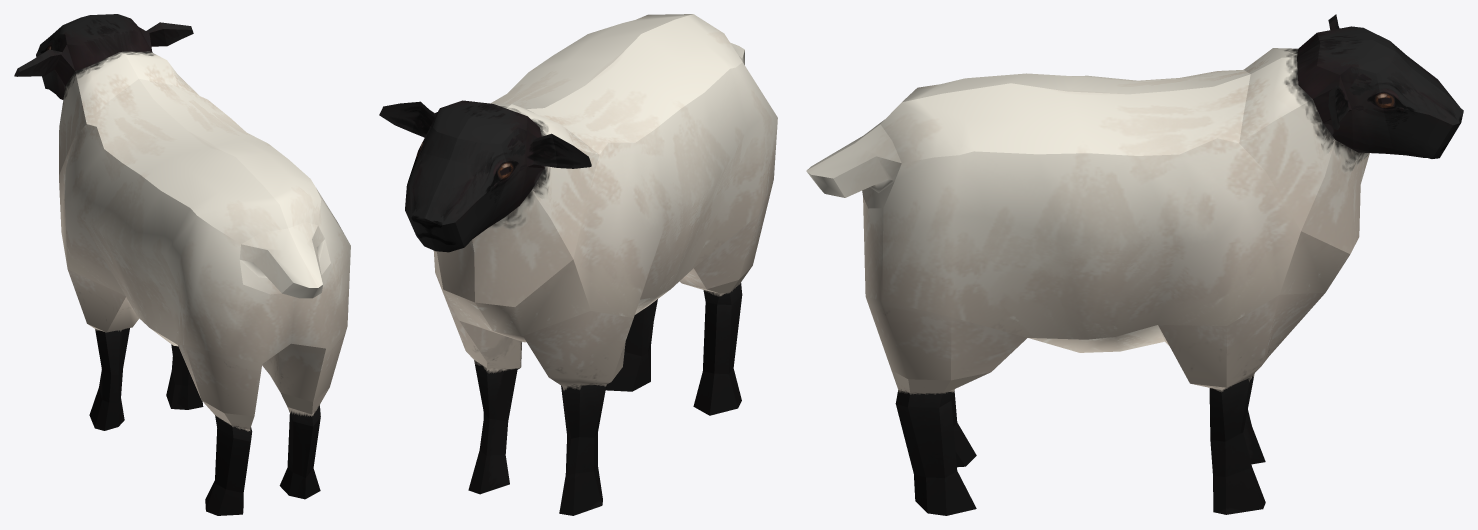
The model's file is Sheep_FBX.fbx.
3 renders of one model, left to right at view 1: azimuth 30°, elevation 25°; view 2: azimuth 150°, elevation 25°; view 3: azimuth 270°, elevation 25°, orthographic. The views are drawn at different scales.
Parts seen in each view (by area): view 1: Sheep_Model; view 2: Sheep_Model; view 3: Sheep_Model.
Part boxes in pixels (x1,y1,x2,y2): Sheep_Model: (14,14,350,515); Sheep_Model: (379,14,777,515); Sheep_Model: (806,14,1463,515).
Size of the model in its own units: 66.53 by 126 by 170.
1 material, 1 textured.
